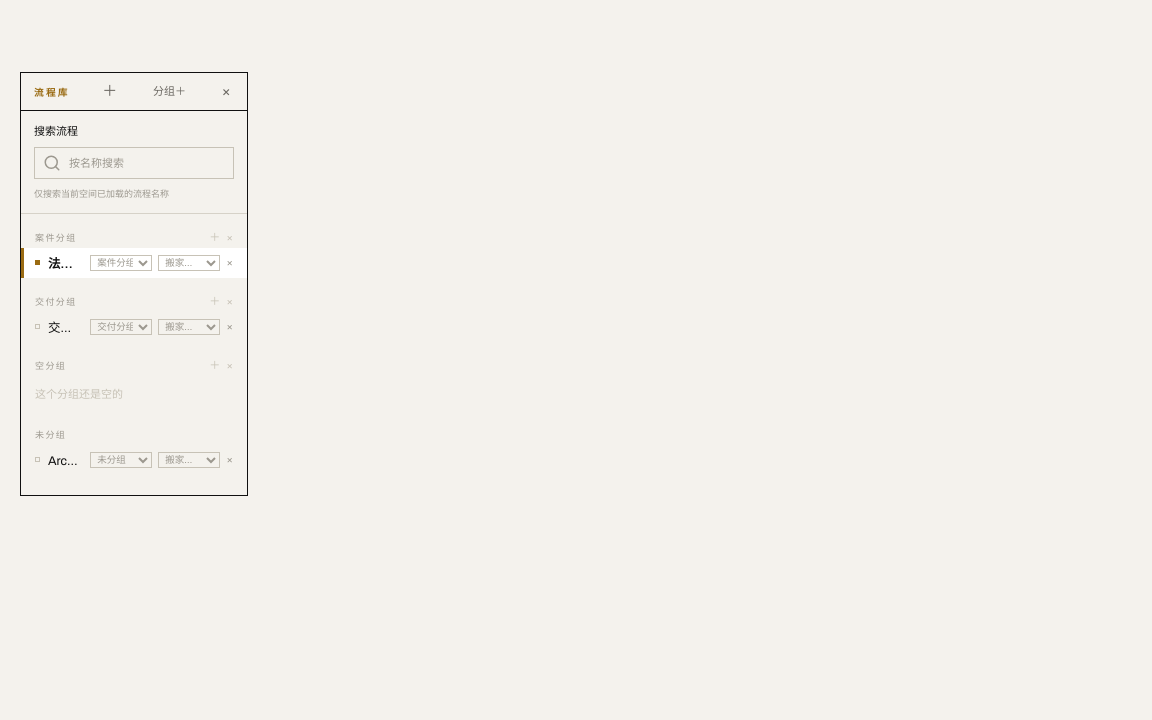
Test case: 流程库的 Arc 名称搜索 › retains the delete confirmation and can cancel without selecting or deleting a flow
Type "交付" into the search field labelled "搜索流程" at (131, 163), box [67,156,195,170]
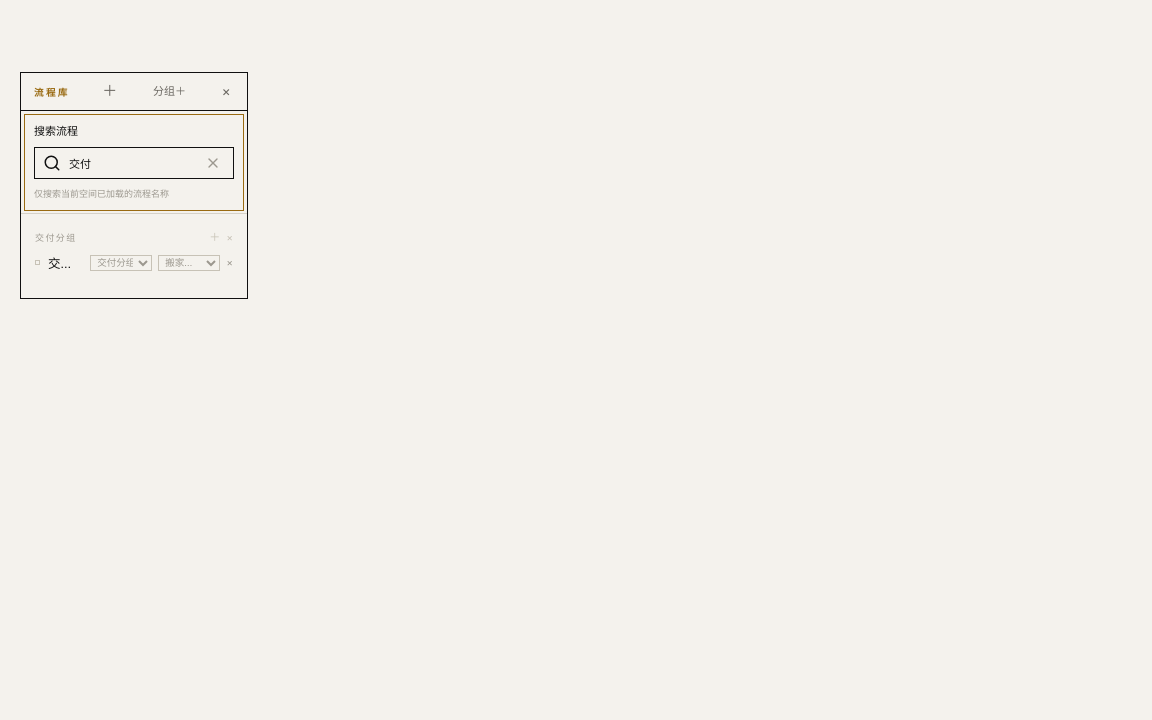
Click the 3rd button titled "删除" at (230, 263), box [226,258,233,268]
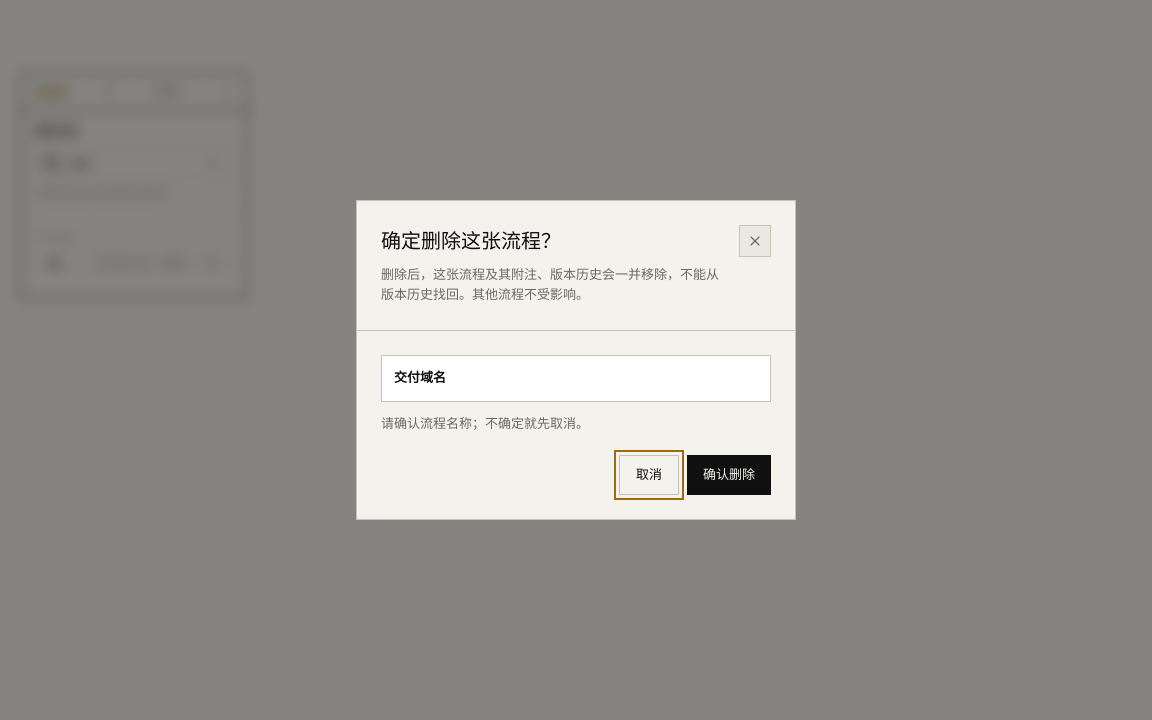
expect the dialog shows "交付域名": met, box [394,371,446,385]
Click the button "取消" at (649, 475), box [619,455,679,496]
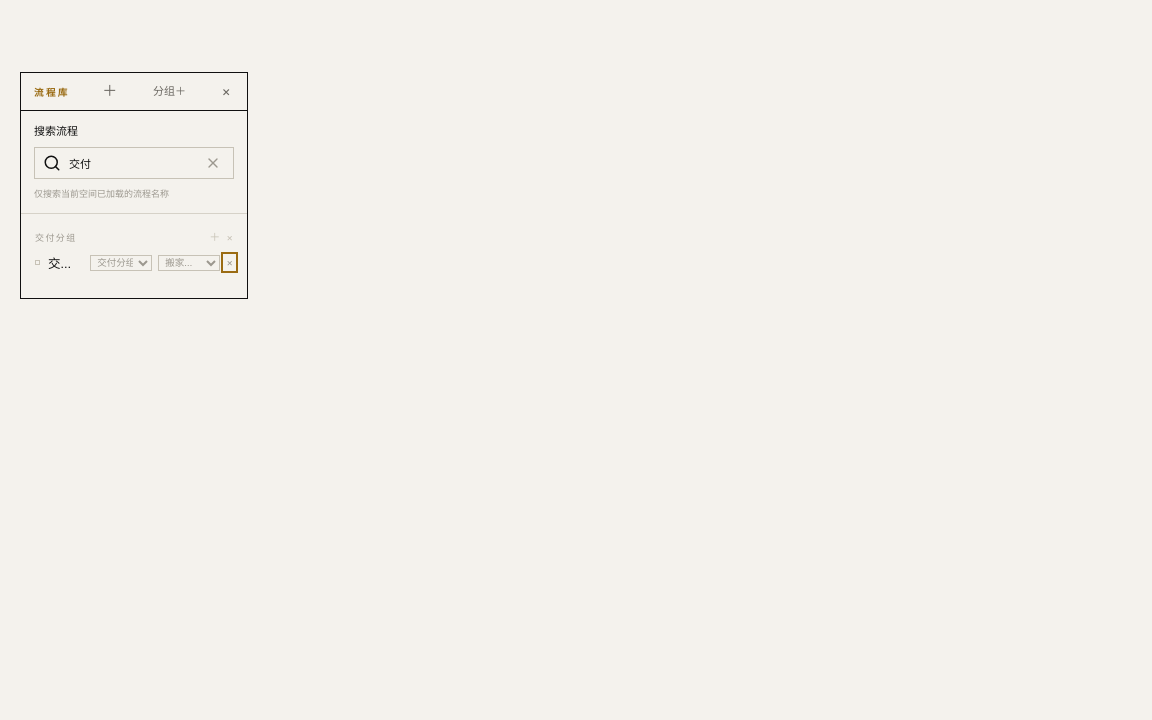
expect the 2nd field showing "交付域名" is shown: met, box [48,256,82,270]
expect the dialog is gone: met
